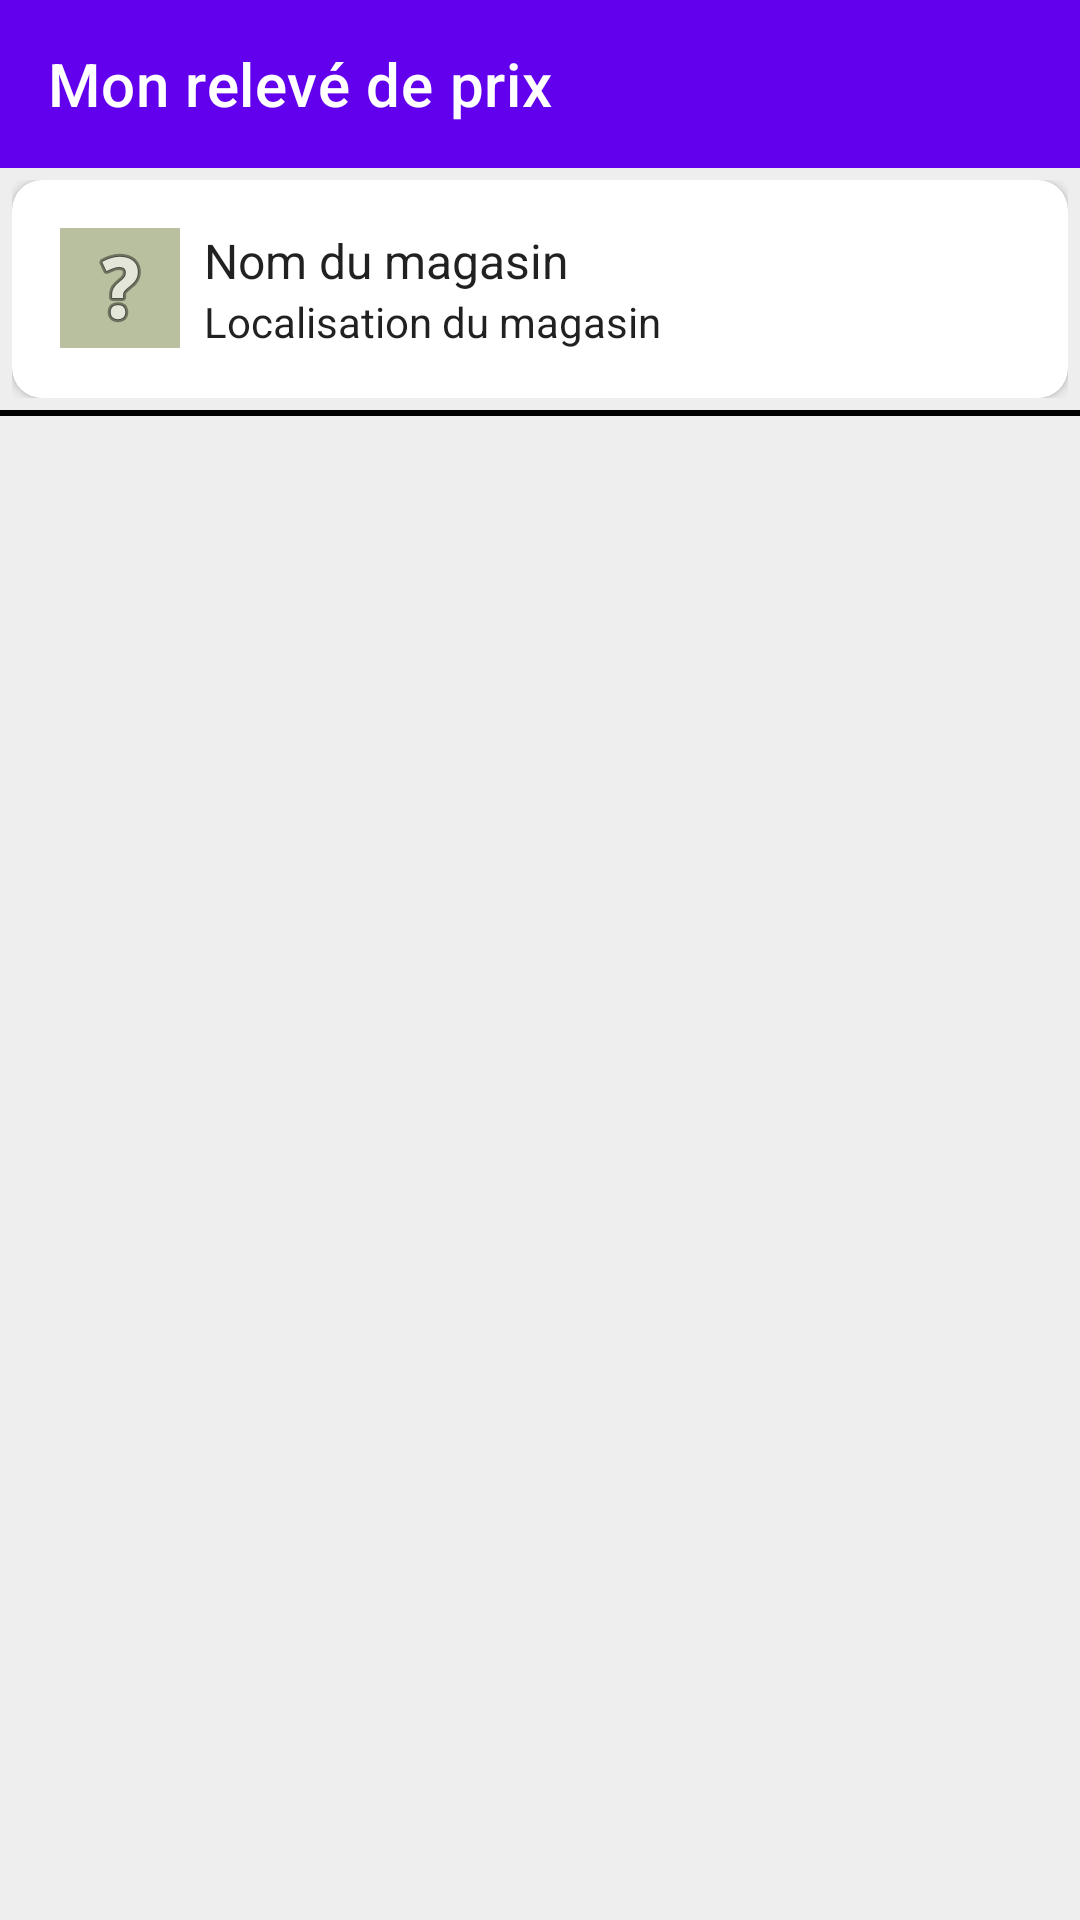

Point at icon controls on the screen. Image size 1080px x 1920px, points as [x,y].
help: [120,288]
